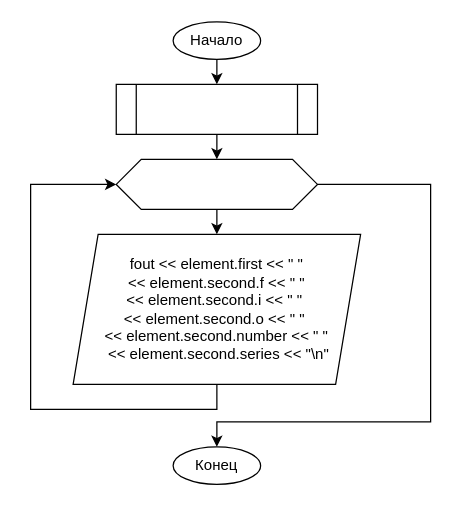
Image size: 463x506. Some labels were removed from this diagram. Each missing label, with the centre of its shape:
for(auto& element : mp): [216,183]
fout.open("output.txt"): [216,108]
